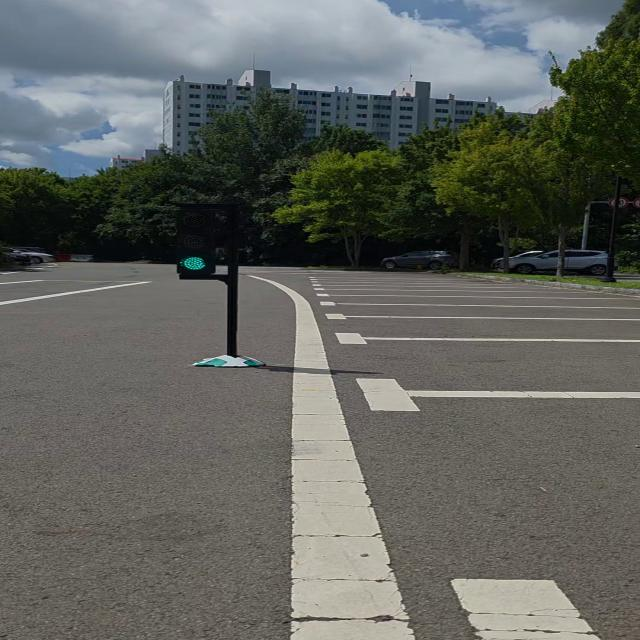green: (170, 204, 220, 280)
